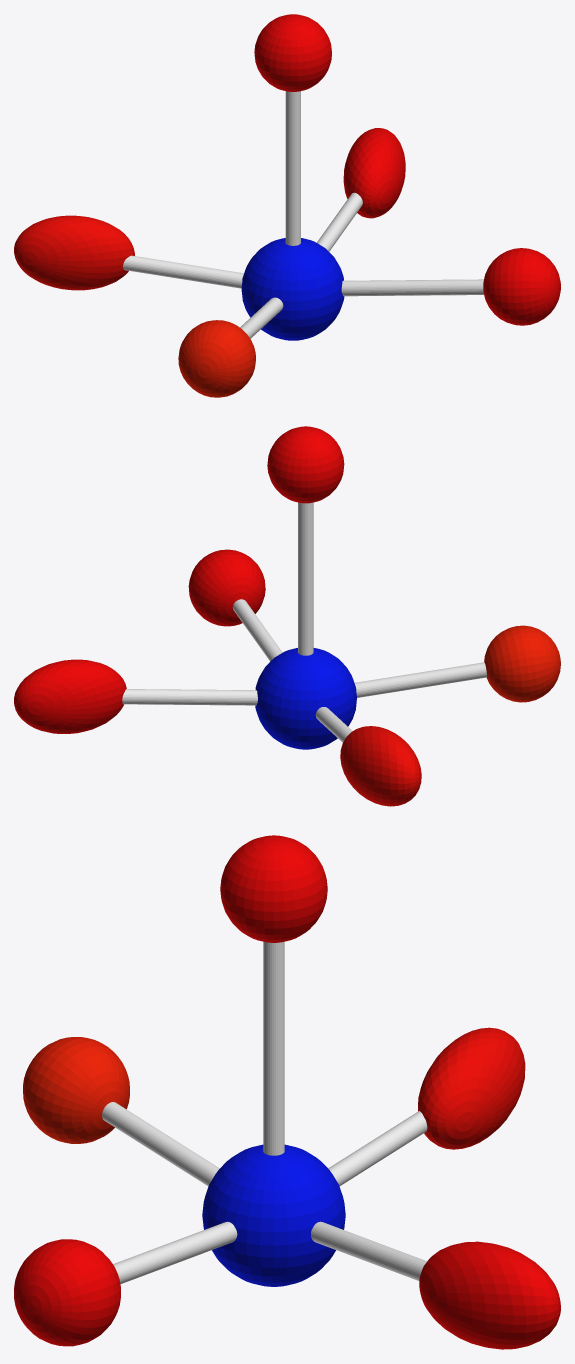
File: Kare piramit.gltf
The picture shows the model from 3 angles, top to bottom: view 1: azimuth 30°, elevation 25°; view 2: azimuth 150°, elevation 25°; view 3: azimuth 270°, elevation 25°; orthographic projection. The views are drawn at different scales.
Visible parts, largest first — view 1: Sphere.003, Sphere.002, Sphere.005, Sphere.004, Sphere, Sphere.001, Cylinder.004, Cylinder.003, Cylinder, Cylinder.002, Cylinder.001; view 2: Sphere.003, Sphere.001, Sphere.002, Sphere.005, Sphere, Sphere.004, Cylinder.004, Cylinder.002, Cylinder.001, Cylinder.003, Cylinder; view 3: Sphere.003, Sphere.001, Sphere.002, Sphere.005, Sphere.004, Sphere, Cylinder.004, Cylinder.001, Cylinder.003, Cylinder.002, Cylinder.
Boxes of the visible parts, <box> form: Sphere.003: <box>241,238,344,340</box>; Sphere.002: <box>14,215,134,290</box>; Sphere.005: <box>254,14,331,91</box>; Sphere.004: <box>483,248,560,325</box>; Sphere: <box>178,320,255,397</box>; Sphere.001: <box>343,128,405,218</box>; Cylinder.004: <box>285,91,300,245</box>; Cylinder.003: <box>341,279,483,296</box>; Cylinder: <box>122,255,243,288</box>; Cylinder.002: <box>317,192,362,251</box>; Cylinder.001: <box>240,297,283,338</box>; Sphere.003: <box>255,648,356,749</box>; Sphere.001: <box>14,659,126,733</box>; Sphere.002: <box>340,726,421,806</box>; Sphere.005: <box>267,426,344,503</box>; Sphere: <box>484,625,560,702</box>; Sphere.004: <box>188,549,265,626</box>; Cylinder.004: <box>298,502,313,655</box>; Cylinder.002: <box>122,689,257,705</box>; Cylinder.001: <box>354,662,486,697</box>; Cylinder.003: <box>232,599,282,661</box>; Cylinder: <box>315,707,352,742</box>; Sphere.003: <box>202,1144,345,1286</box>; Sphere.001: <box>419,1241,560,1349</box>; Sphere.002: <box>418,1027,525,1149</box>; Sphere.005: <box>220,835,327,942</box>; Sphere.004: <box>14,1239,120,1346</box>; Sphere: <box>23,1037,129,1143</box>; Cylinder.004: <box>263,941,284,1155</box>; Cylinder.001: <box>102,1102,219,1186</box>; Cylinder.003: <box>113,1221,237,1284</box>; Cylinder.002: <box>311,1221,426,1280</box>; Cylinder: <box>328,1111,427,1186</box>.
Size of the model in its own units: 8.74 by 6.76 by 7.62.
